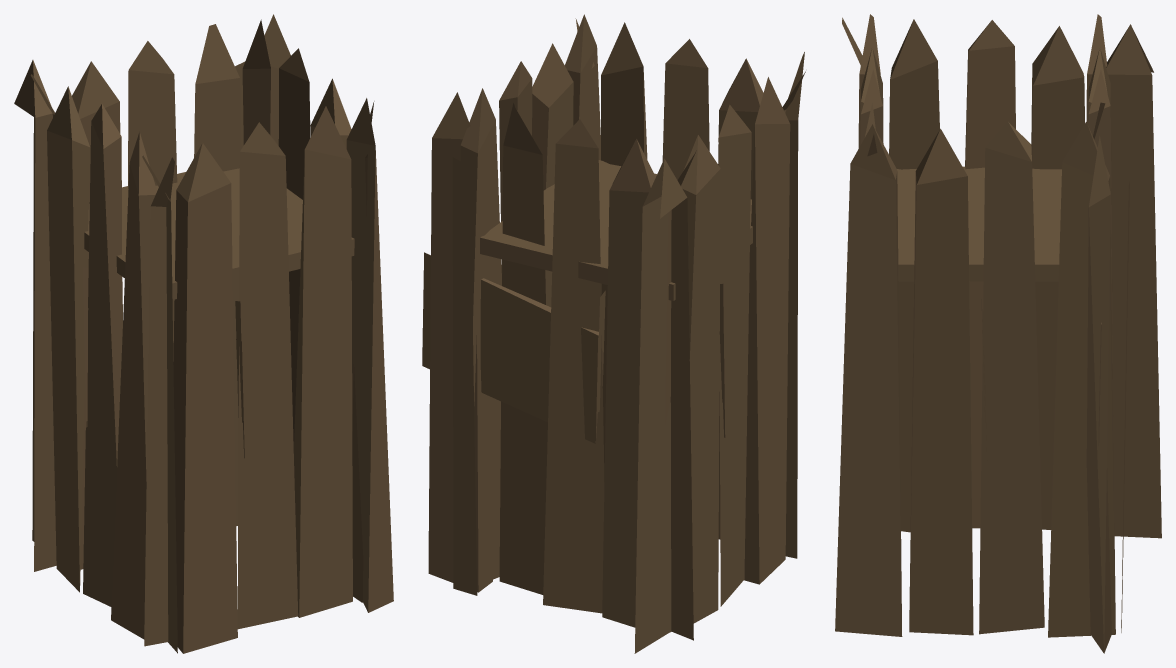
Rendered from woodentower.fbx.
The picture shows the model from 3 angles, left to right: view 1: azimuth 30°, elevation 25°; view 2: azimuth 150°, elevation 25°; view 3: azimuth 270°, elevation 25°; orthographic projection. The views are drawn at different scales.
Parts seen in each view (by area): view 1: Cube.004; view 2: Cube.004; view 3: Cube.004.
Boxes of the visible parts, x1,y1,x2,y2 form: Cube.004: (14, 14, 393, 653); Cube.004: (422, 14, 805, 653); Cube.004: (835, 14, 1161, 653).
Bounding box in the file's own units: 373 × 648 × 371.
